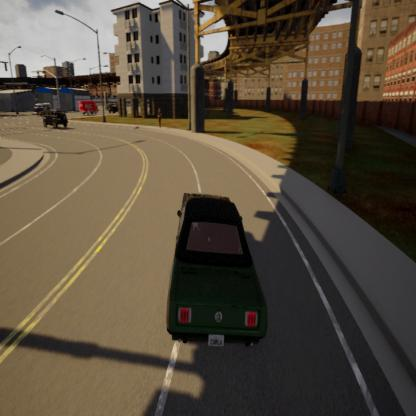Cars: (166, 193, 266, 347), (43, 108, 68, 130), (79, 100, 97, 116), (34, 101, 50, 114)
Pedestrian: (157, 107, 162, 127)
